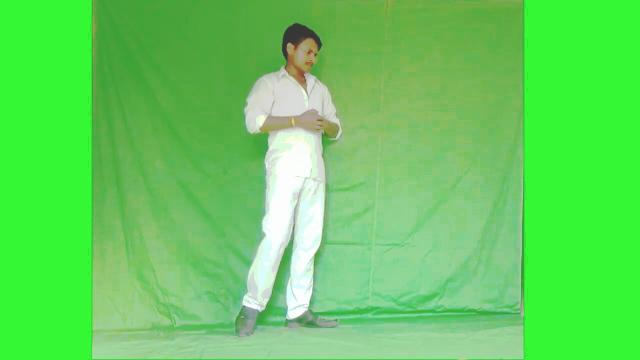berjalan: (230, 20, 344, 334)
